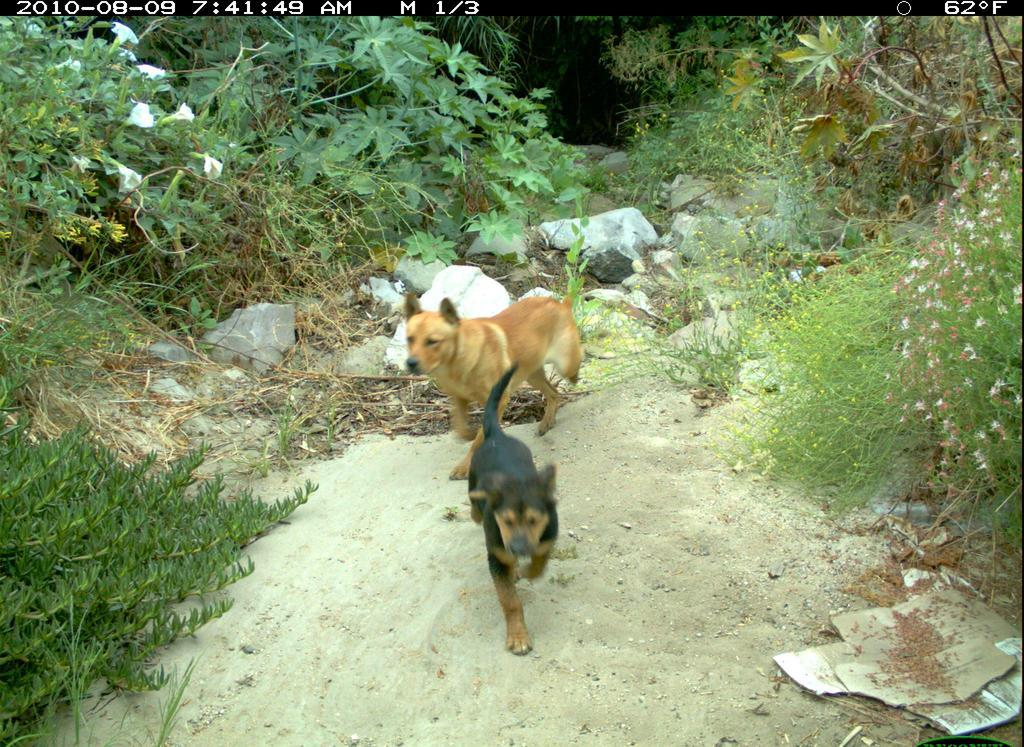dog: (451, 365, 591, 658), (410, 274, 594, 443)
